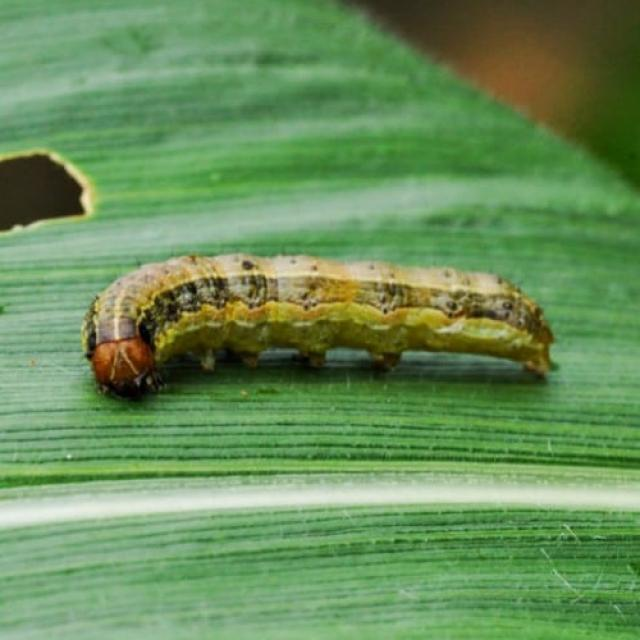armyworm: (80, 250, 556, 402)
